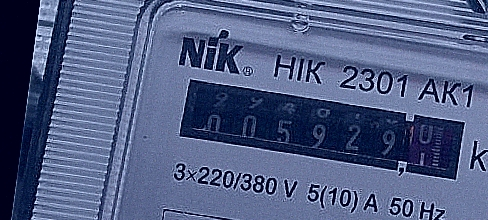0: (238, 110, 260, 141), (202, 107, 225, 133), (415, 121, 437, 146)
2: (341, 119, 364, 154)
5: (273, 115, 294, 145)
9: (305, 118, 330, 151), (377, 125, 400, 159), (210, 88, 230, 108)
screen: (171, 72, 474, 189)
